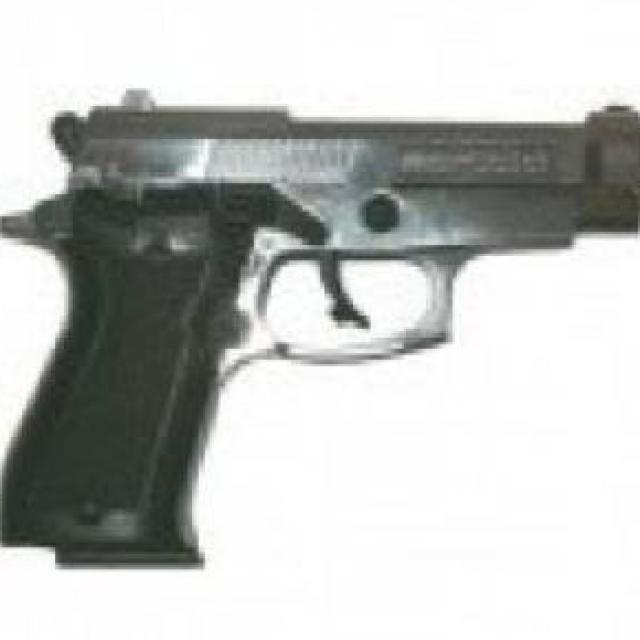pistol: (4, 95, 640, 569)
